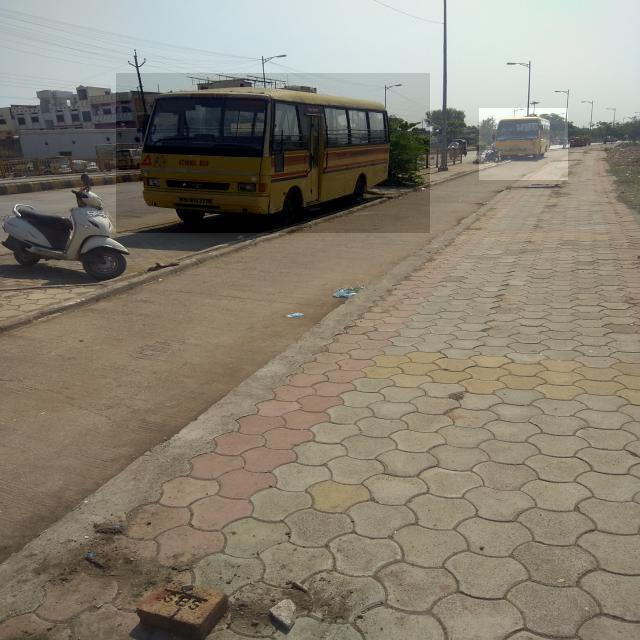Bus: (116, 74, 430, 234), (479, 108, 568, 180)
